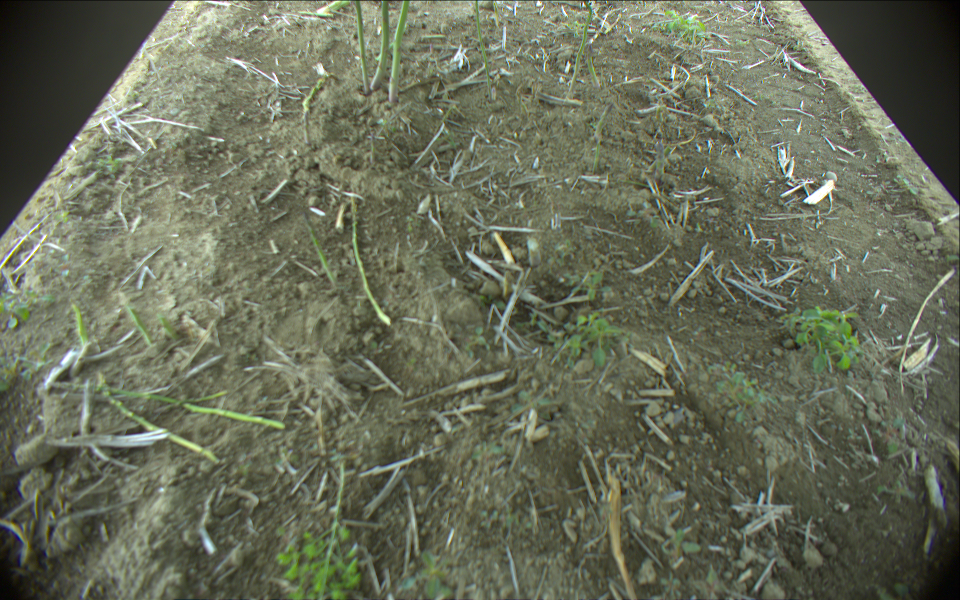aspa: (53, 378, 284, 433), (97, 378, 220, 468), (347, 194, 396, 325), (299, 212, 341, 287), (300, 69, 338, 144), (567, 1, 593, 96), (387, 1, 411, 99), (115, 293, 155, 345), (370, 1, 391, 89), (471, 1, 492, 80), (353, 1, 370, 93), (67, 303, 96, 350), (584, 41, 604, 88), (155, 312, 178, 342)
